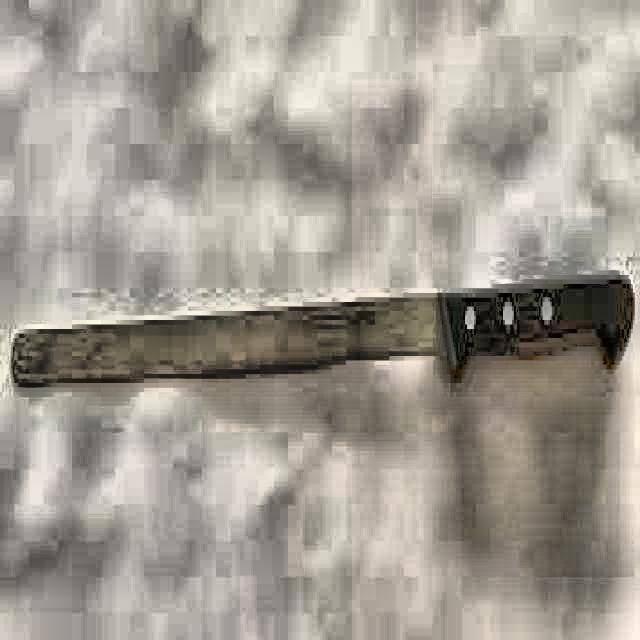knife: (2, 271, 640, 414)
